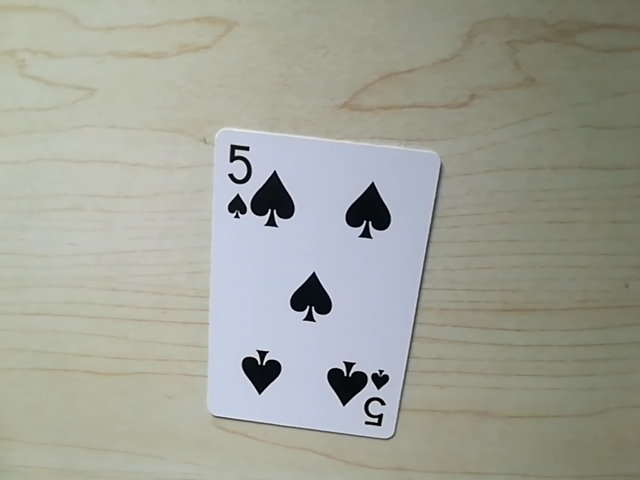ht 5: (215, 135, 266, 224), (360, 369, 395, 439)
